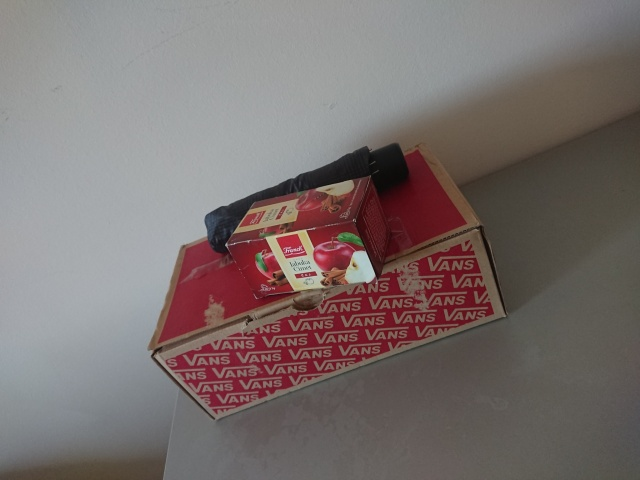Franck Apple Cinnamon Tea 60g: (222, 172, 391, 300)
